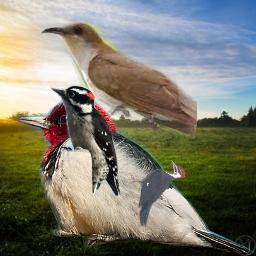Cuckoo: (37, 22, 197, 140)
Woodpecker: (12, 98, 254, 253), (50, 85, 121, 196), (128, 160, 186, 227)
